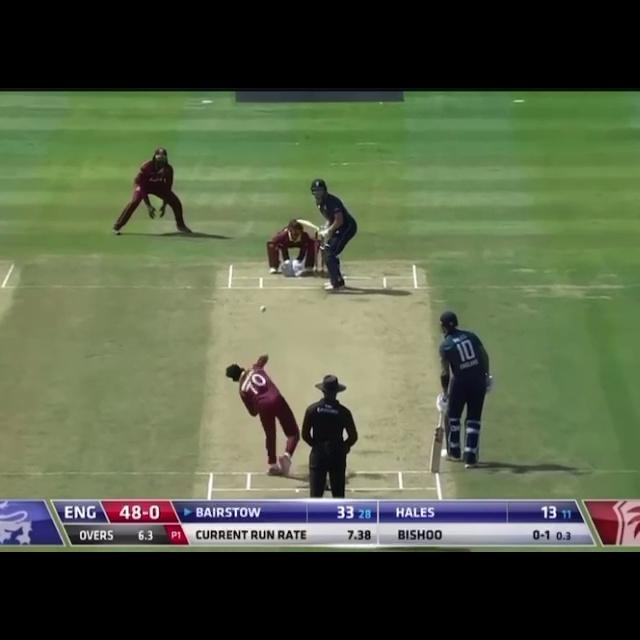umpire: (298, 372, 364, 498)
